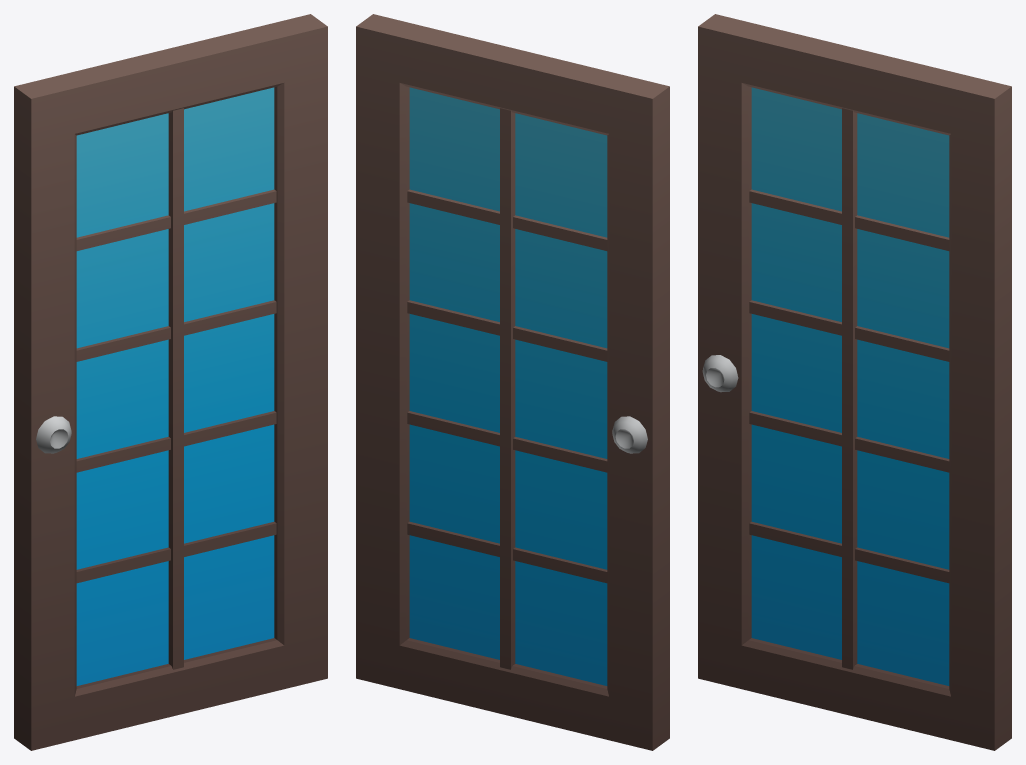
Rendered from Door_Brown_06.glb.
3 views of the same model, side by side, from view 1: azimuth 30°, elevation 25°; view 2: azimuth 150°, elevation 25°; view 3: azimuth 330°, elevation 25° (orthographic).
Visible parts, largest first — view 1: Door_Brown_06; view 2: Door_Brown_06; view 3: Door_Brown_06.
Boxes of the visible parts, x1,y1,x2,y2 form: Door_Brown_06: (14, 14, 327, 750); Door_Brown_06: (356, 14, 669, 750); Door_Brown_06: (698, 14, 1011, 750).
Size of the model in its own units: 1 by 2.1 by 0.1634.
2 materials, 2 textured.
